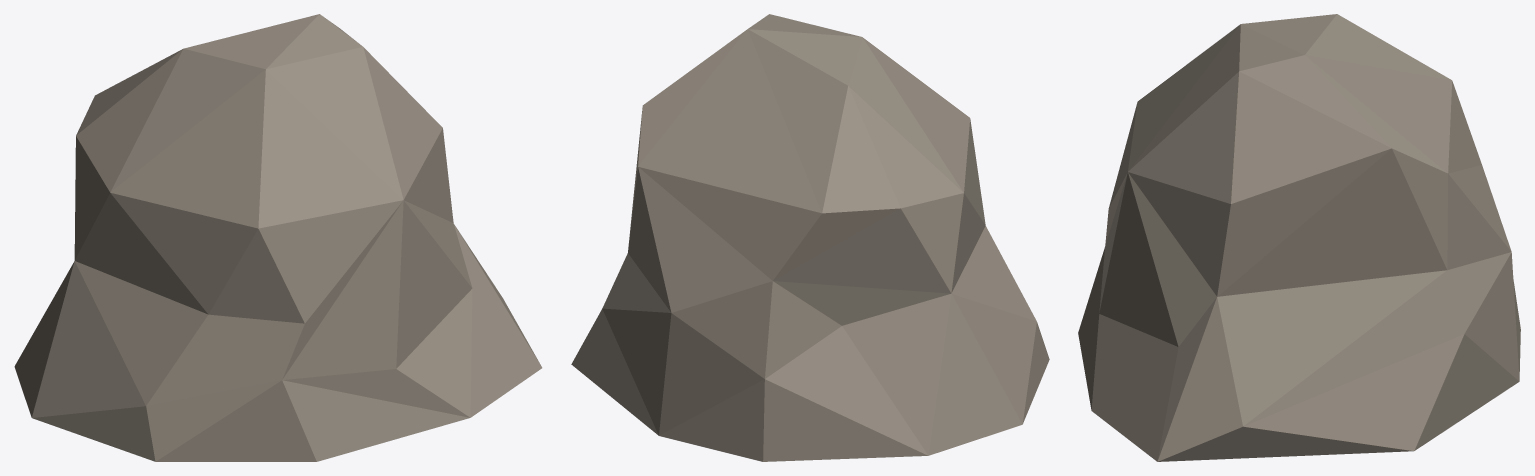
File: rock_small_01.glb
The picture shows the model from 3 angles, left to right: view 1: azimuth 30°, elevation 25°; view 2: azimuth 150°, elevation 25°; view 3: azimuth 270°, elevation 25°; orthographic projection. The views are drawn at different scales.
Parts seen in each view (by area): view 1: rock_small_01; view 2: rock_small_01; view 3: rock_small_01.
Part boxes in pixels (<box>): rock_small_01: <box>14,14,542,461</box>; rock_small_01: <box>571,14,1049,461</box>; rock_small_01: <box>1078,14,1520,461</box>.
Bounding box in the file's own units: 1.85 × 1.36 × 1.63.
1 material, 1 textured.
